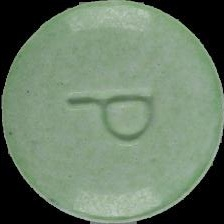52544-954: (0, 0, 224, 224)
